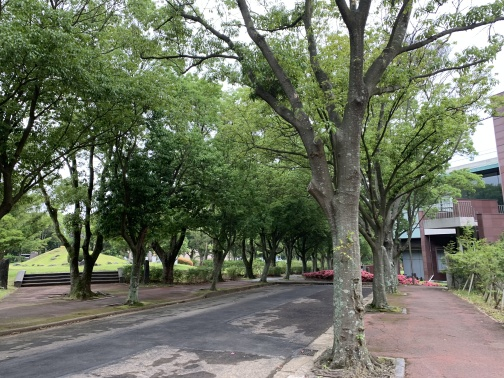Museum: (421, 79, 504, 284), (409, 179, 500, 288)
